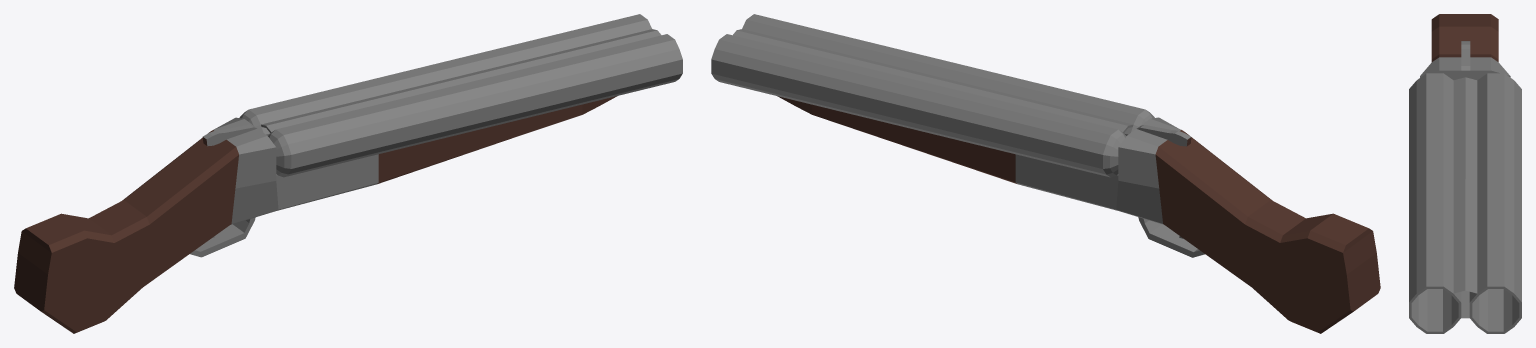
The model's file is Sawed-Off.fbx.
The picture shows the model from 3 angles, left to right: view 1: azimuth 30°, elevation 25°; view 2: azimuth 150°, elevation 25°; view 3: azimuth 270°, elevation 25°; orthographic projection. The views are drawn at different scales.
Visible parts, largest first — view 1: Sawed-Off; view 2: Sawed-Off; view 3: Sawed-Off.
Boxes of the visible parts, x1=… form: Sawed-Off: x1=14, y1=14, x2=682, y2=333; Sawed-Off: x1=711, y1=14, x2=1380, y2=333; Sawed-Off: x1=1409, y1=14, x2=1521, y2=333.
Bounding box in the file's own units: 546 × 128 × 76.
